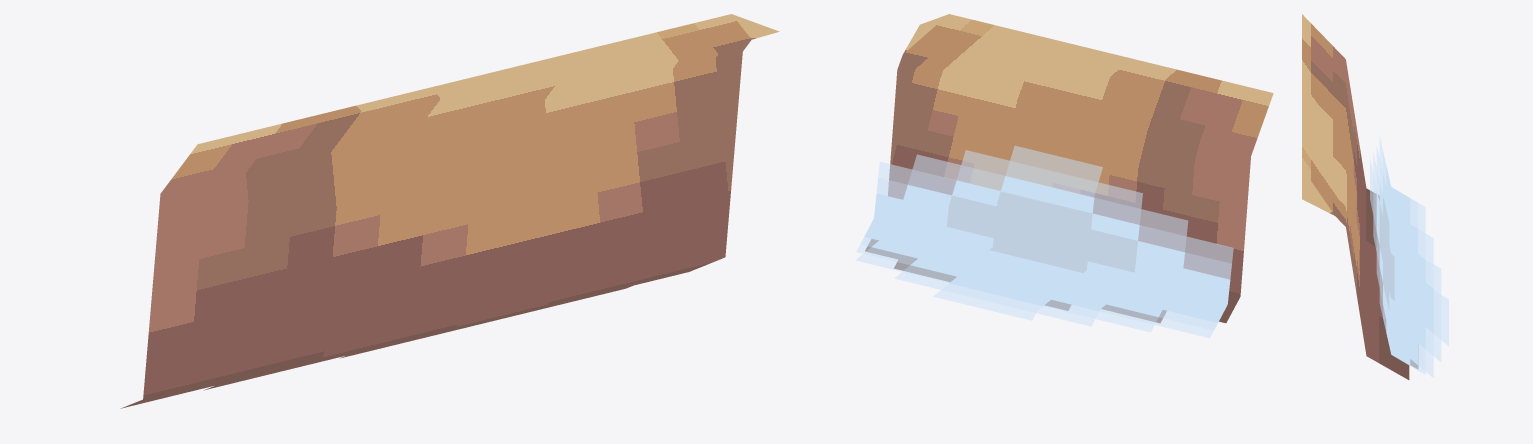
The picture shows the model from 3 angles, left to right: view 1: azimuth 30°, elevation 25°; view 2: azimuth 150°, elevation 25°; view 3: azimuth 270°, elevation 25°; orthographic projection. The views are drawn at different scales.
Size of the model in its own units: 1 by 0.6892 by 0.5459.
2 materials, 2 textured.
